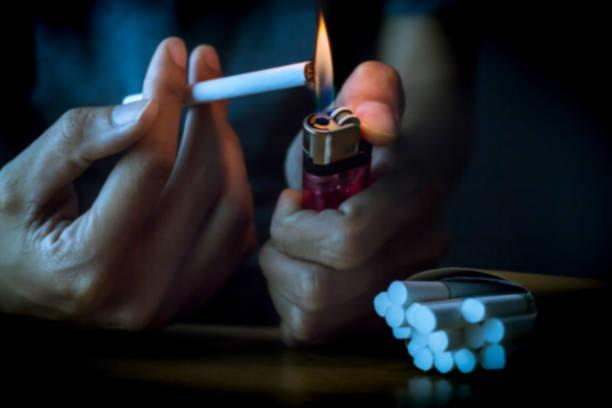Fire: (313, 12, 339, 120)
